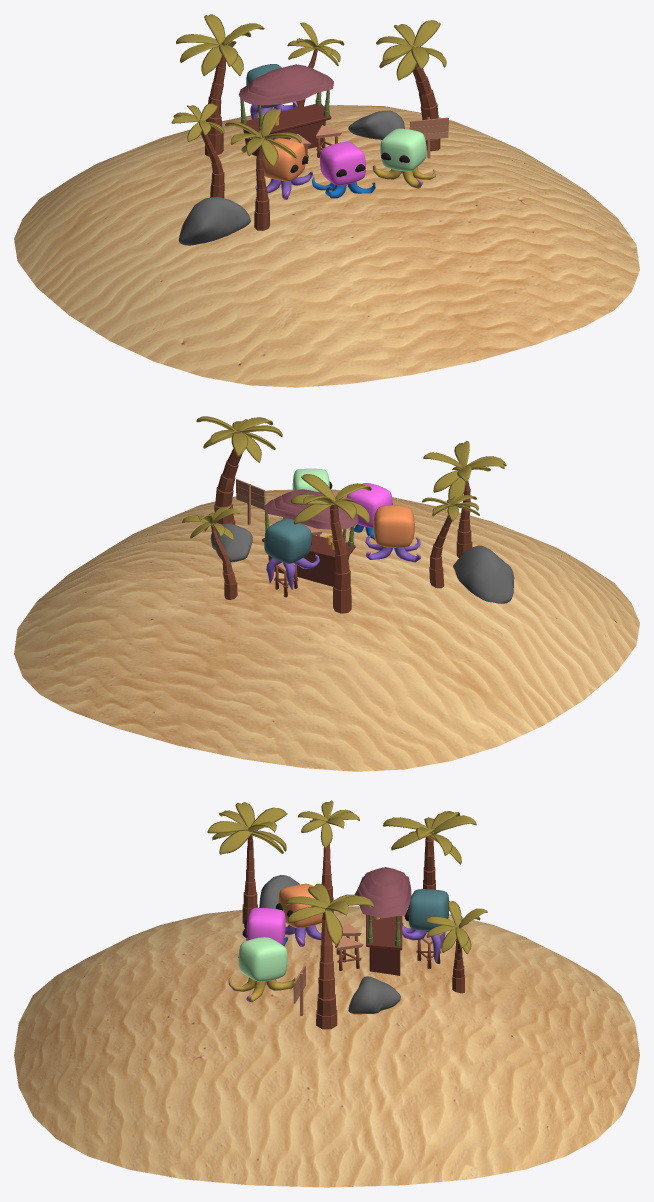
The model's file is food.gltf.
3 views of the same model, one above another, from view 1: azimuth 30°, elevation 25°; view 2: azimuth 150°, elevation 25°; view 3: azimuth 270°, elevation 25° (orthographic). The views are drawn at different scales.
Parts seen in each view (by area): view 1: Ground_62; view 2: Ground_62; view 3: Ground_62.
Boxes of the visible parts, x1,y1,x2,y2 form: Ground_62: (14, 14, 639, 387); Ground_62: (14, 416, 639, 771); Ground_62: (14, 800, 639, 1187).
Size of the model in its own units: 8.92 by 3.37 by 8.92.
91 materials, 1 textured.
